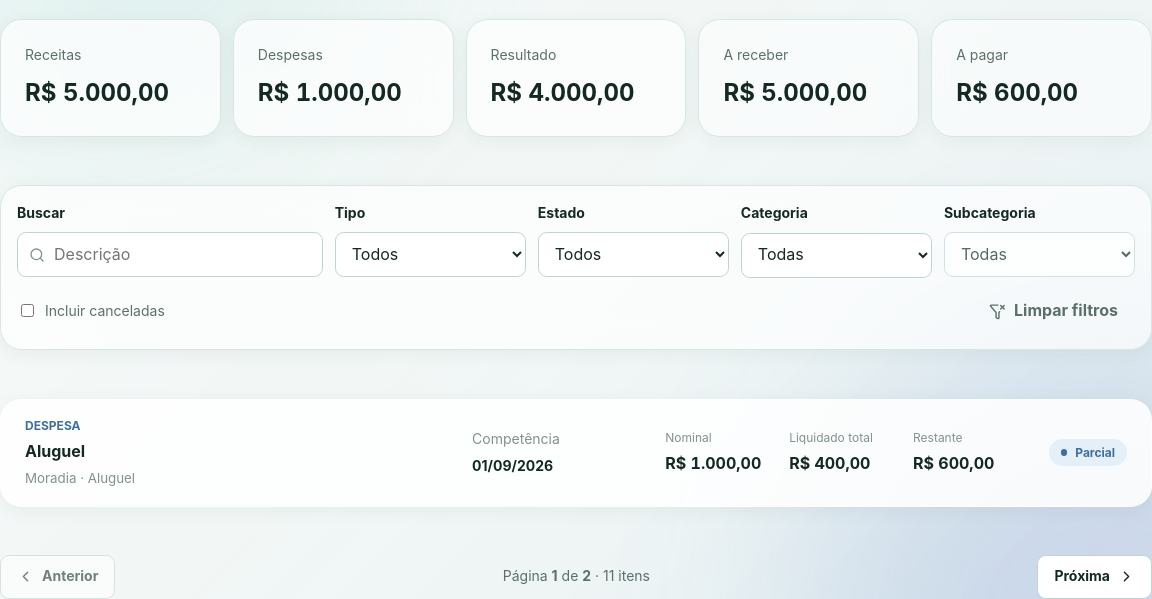
Scenario: Movimentações Web › abre detalhe, mostra histórico e registra liquidação parcial/restante
This screenshot has width=1152, height=599.
(page scrolled)
Click the text "Aluguel". click: (55, 451)
box: [25, 441, 85, 461]
(page scrolled)
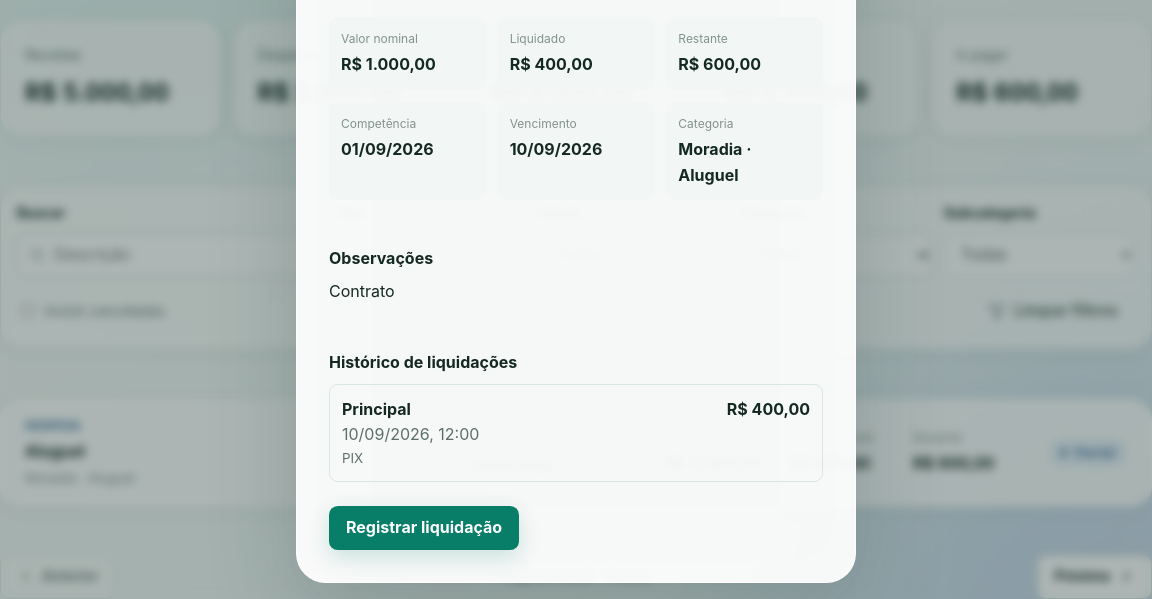
Result: the heading "Histórico de liquidações" is shown at [329, 352, 517, 372]
Result: the text "PIX" is shown at [342, 450, 363, 466]
Click the button "Registrar liquidação". click: (424, 528)
box: [329, 506, 519, 550]
(page scrolled)
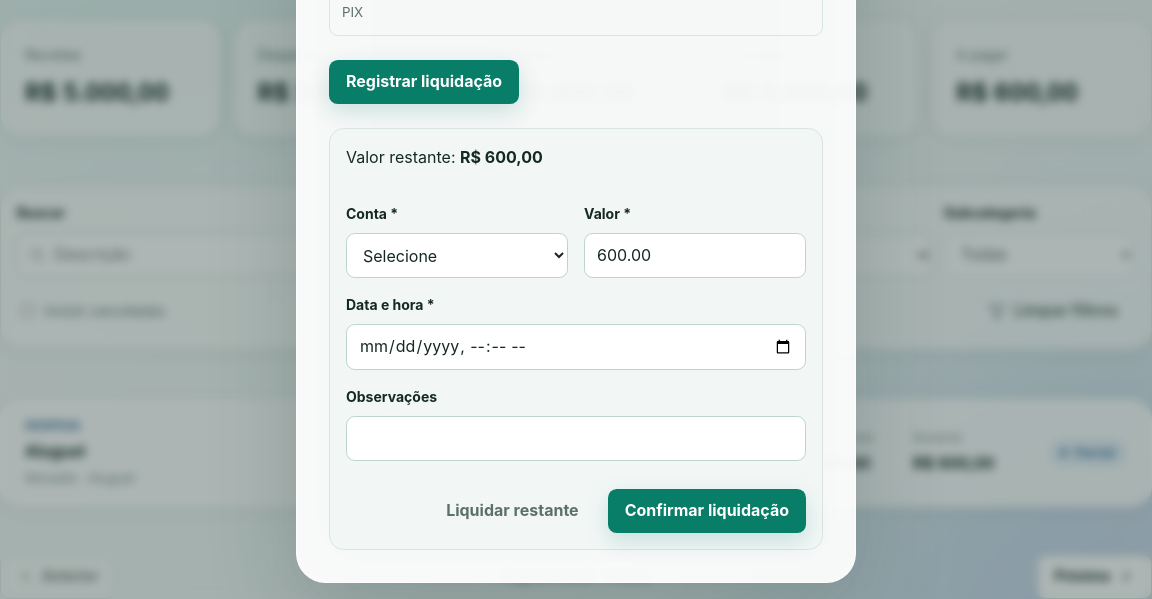
Result: the text "Valor restante:" is shown at [346, 147, 460, 167]
Select "Principal" in the dropdown labelled "Conta *". click: (457, 256)
box: [346, 233, 568, 278]
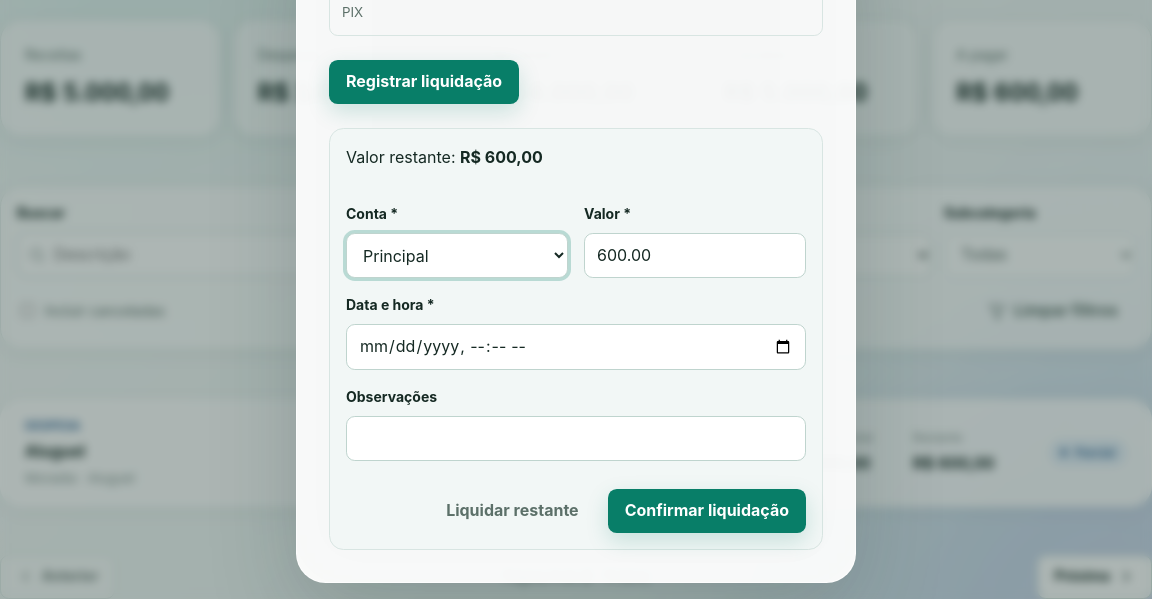
Type "2026-09-11T10:00" into the field labelled "Data e hora *". click: (576, 347)
box: [346, 324, 806, 370]
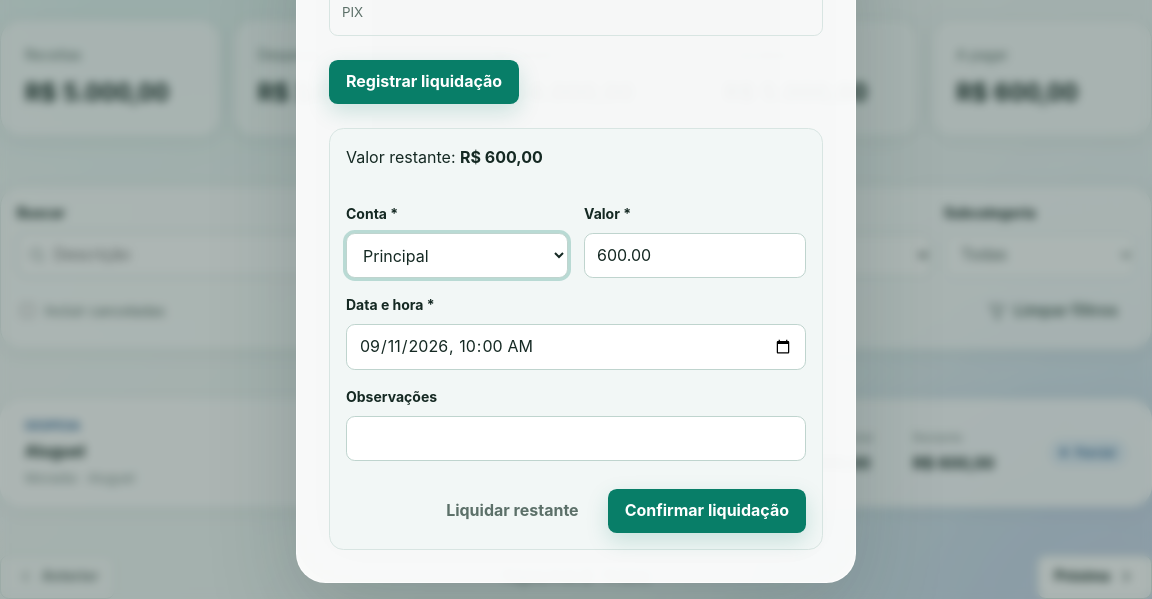
Click the button "Liquidar restante". click: (512, 511)
box: [429, 489, 596, 533]
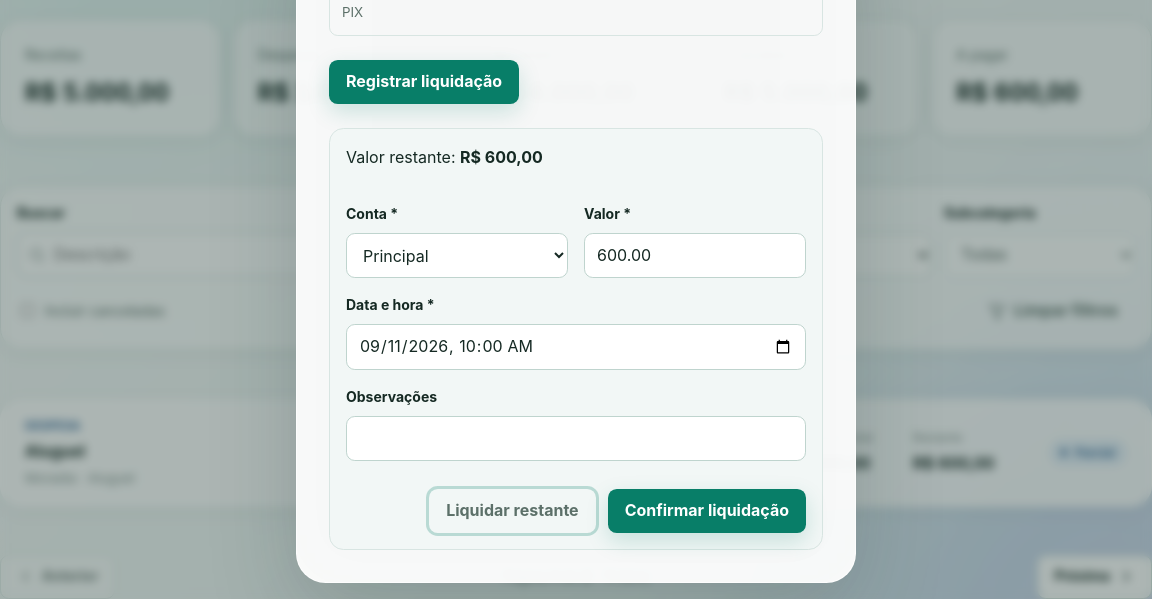
Click the button "Confirmar liquidação". click: (707, 511)
box: [608, 489, 806, 533]
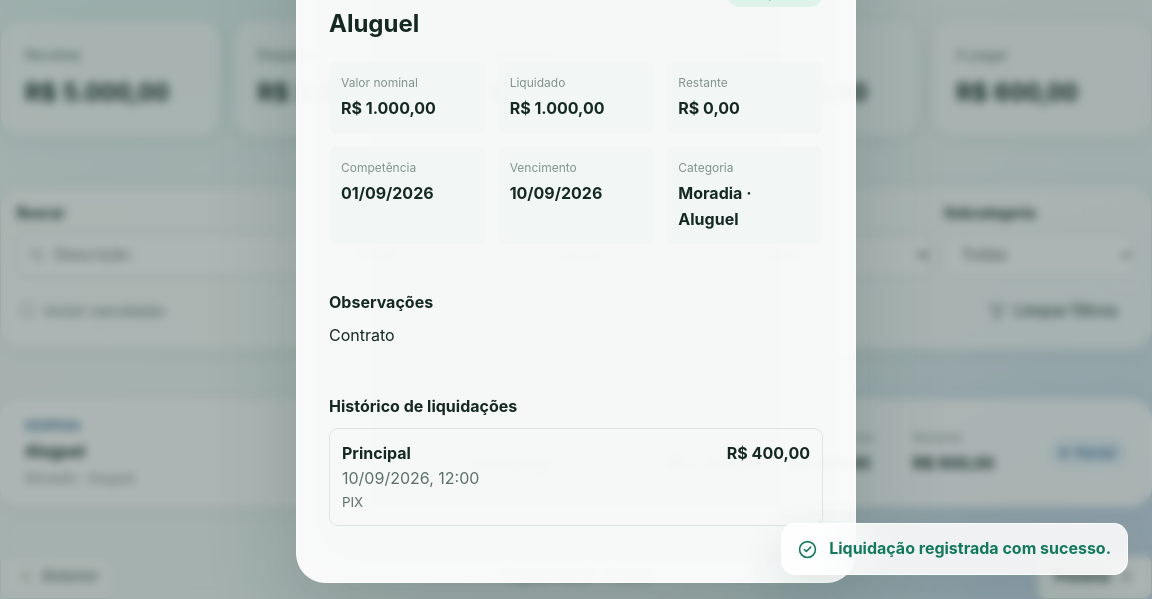
Result: the button "Confirmar liquidação" is gone
